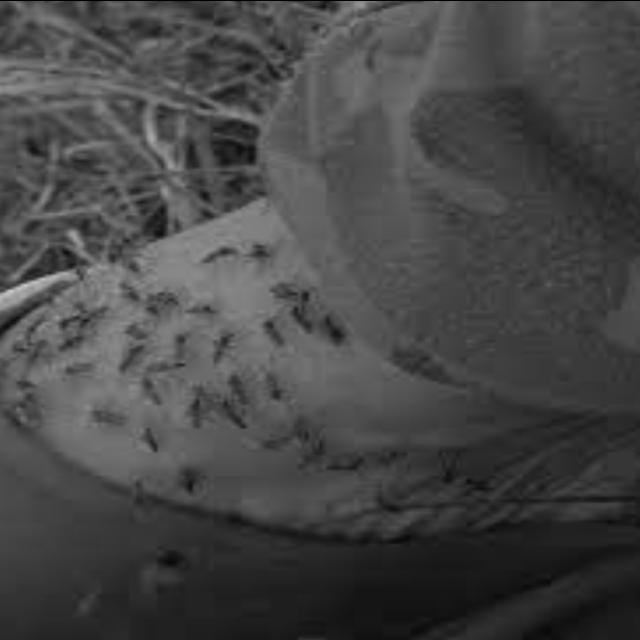Mosquito Swarm: (0, 228, 372, 496)
